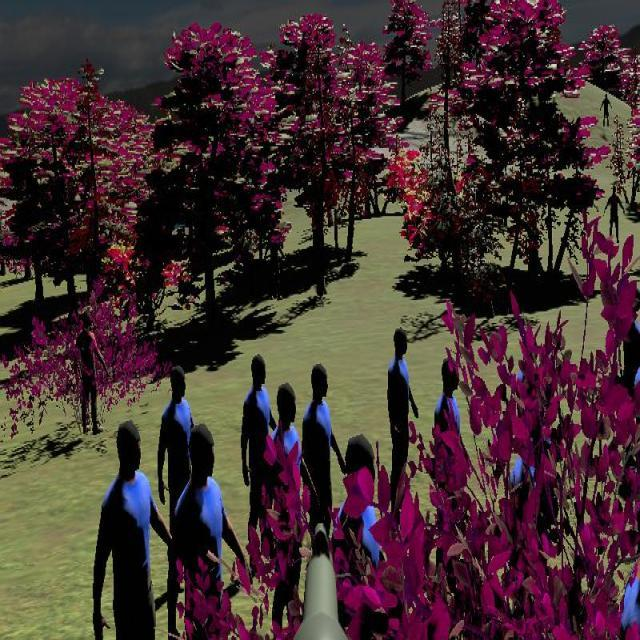Human: (168, 420, 253, 639), (90, 417, 171, 638), (265, 374, 320, 640), (298, 362, 348, 623), (156, 363, 197, 627), (240, 350, 282, 571), (385, 328, 420, 530), (76, 308, 109, 435)
